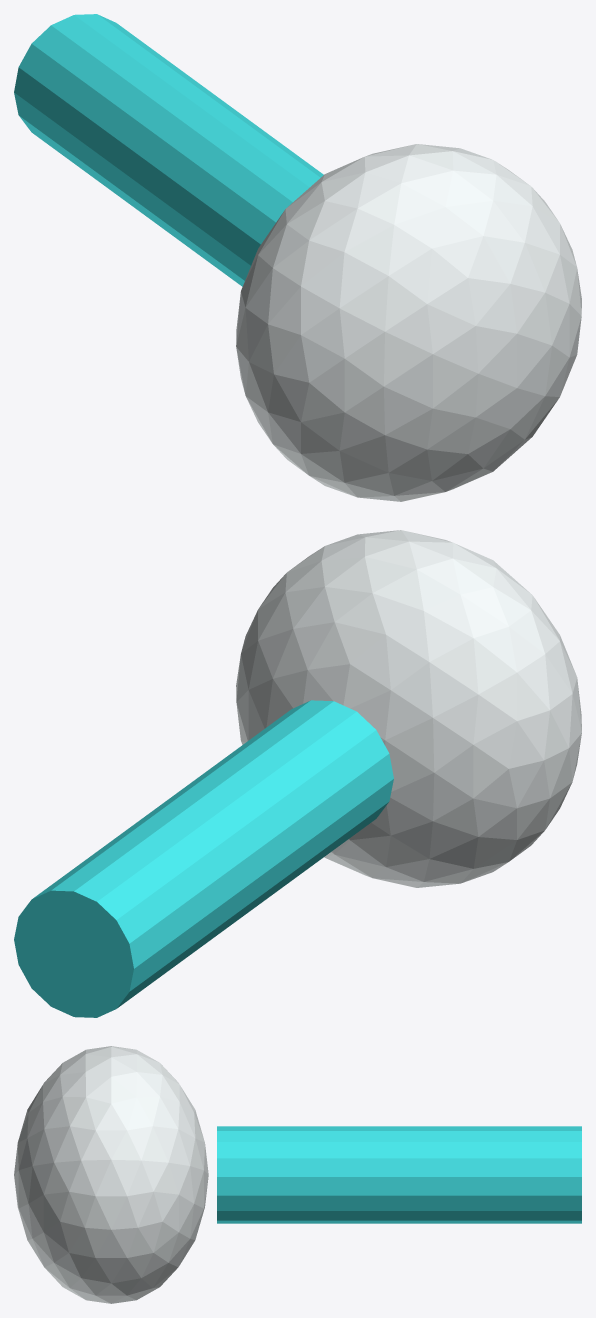
Rendered from landscape-light-spot.glb.
3 renders of one model, top to bottom at view 1: azimuth 30°, elevation 25°; view 2: azimuth 150°, elevation 25°; view 3: azimuth 270°, elevation 25°, orthographic. The views are drawn at different scales.
Visible parts, largest first — view 1: world; view 2: world; view 3: world.
Boxes of the visible parts, left/top/right/bottom form: world: left=14, top=14, right=581, bottom=501; world: left=14, top=530, right=581, bottom=1017; world: left=14, top=1046, right=581, bottom=1303.
Bounding box in the file's own units: 0.32 × 0.32 × 0.7.
